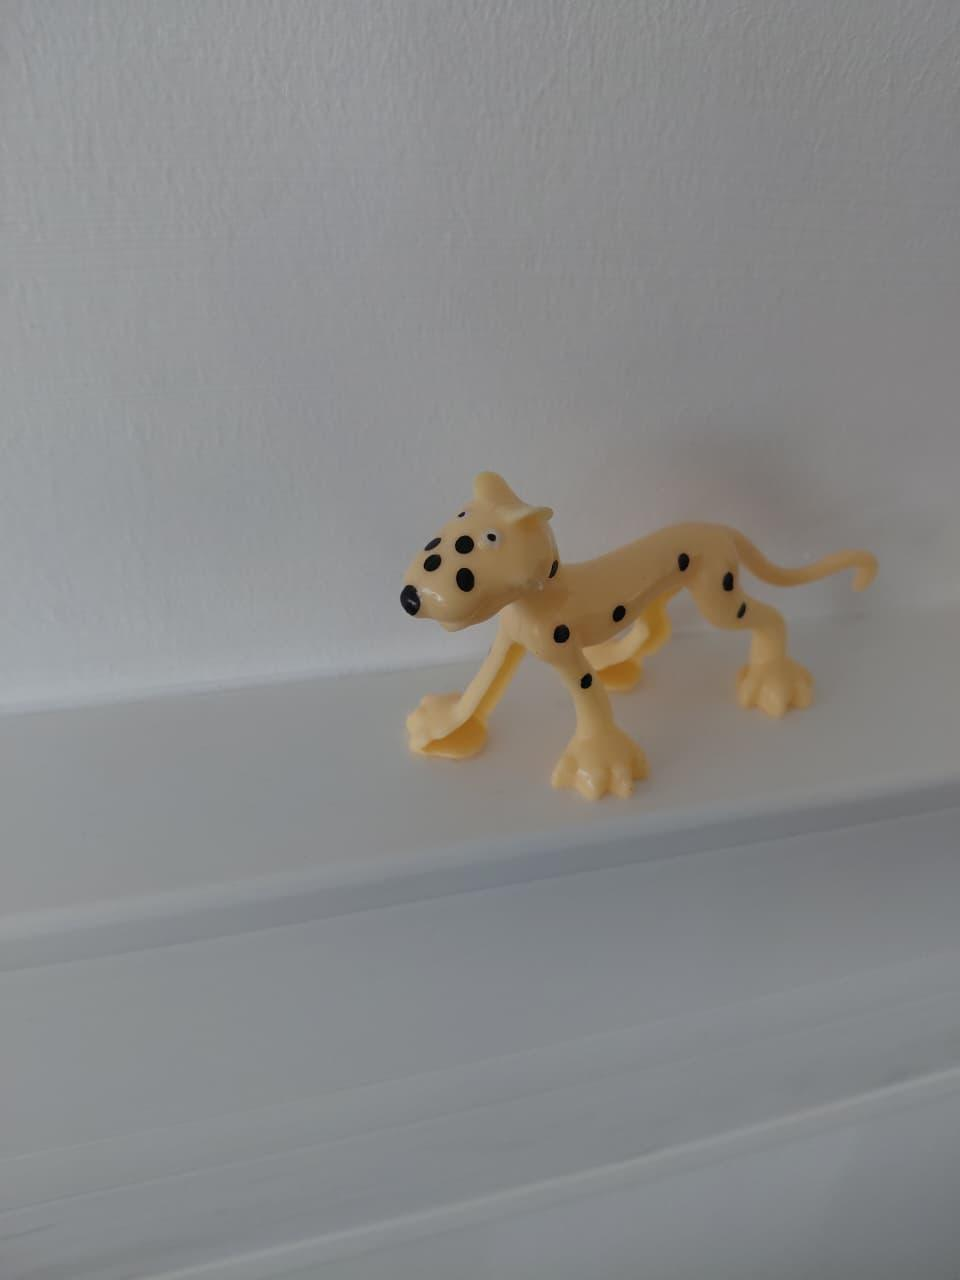cheetah: (367, 425, 922, 853)
